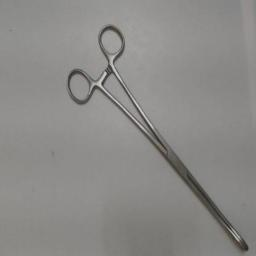Sponge Forceps: (61, 17, 251, 255)
